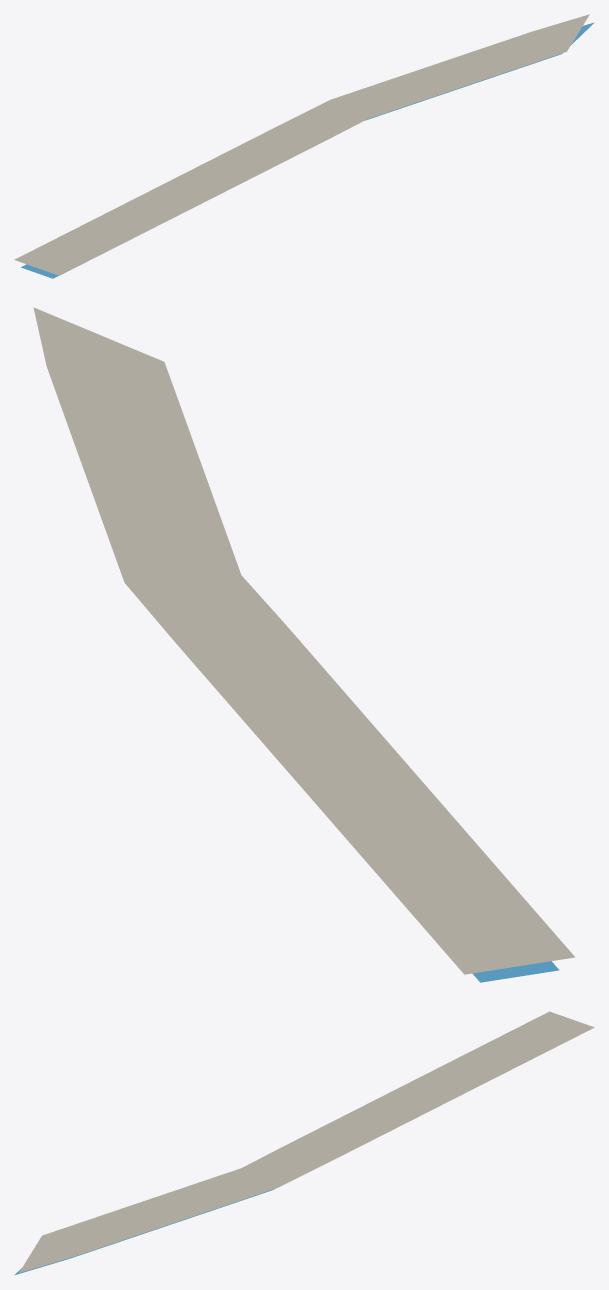
3 views of the same model, one above another, from view 1: azimuth 90°, elevation 25°; view 2: azimuth 150°, elevation 25°; view 3: azimuth 270°, elevation 25° (orthographic). The views are drawn at different scales.
Parts seen in each view (by area): view 1: estructura_terreno, estructura_agua; view 2: estructura_terreno, estructura_agua; view 3: estructura_terreno, estructura_agua.
Boxes of the visible parts, x1=… form: estructura_terreno: x1=14, y1=14, x2=589, y2=275; estructura_agua: x1=21, y1=22, x2=594, y2=278; estructura_terreno: x1=33, y1=307, x2=575, y2=974; estructura_agua: x1=472, y1=961, x2=558, y2=982; estructura_terreno: x1=19, y1=1011, x2=594, y2=1272; estructura_agua: x1=14, y1=1188, x2=275, y2=1275.
Size of the model in its own units: 43.97 by 0.41 by 41.25.
